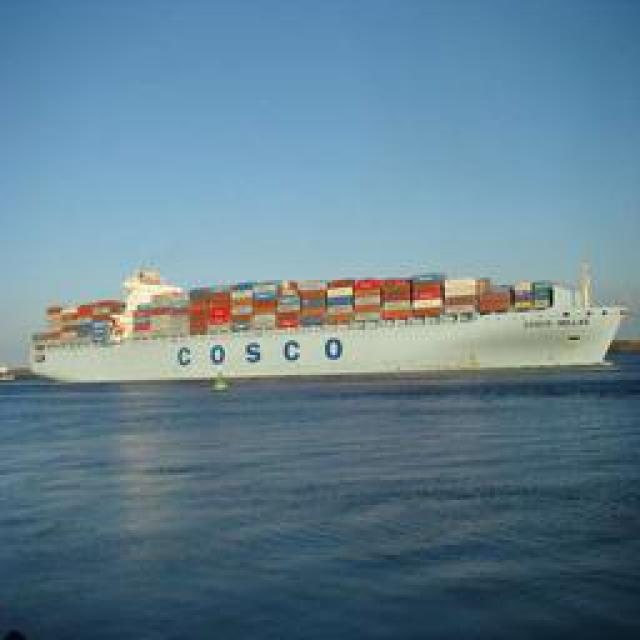Ship: (27, 261, 627, 394)
